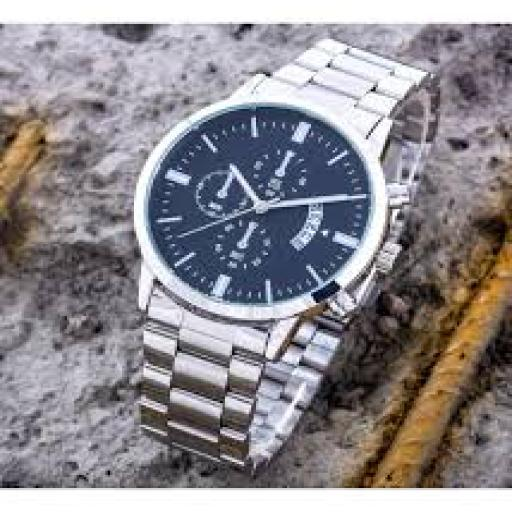KolSaati: (94, 31, 470, 480)
